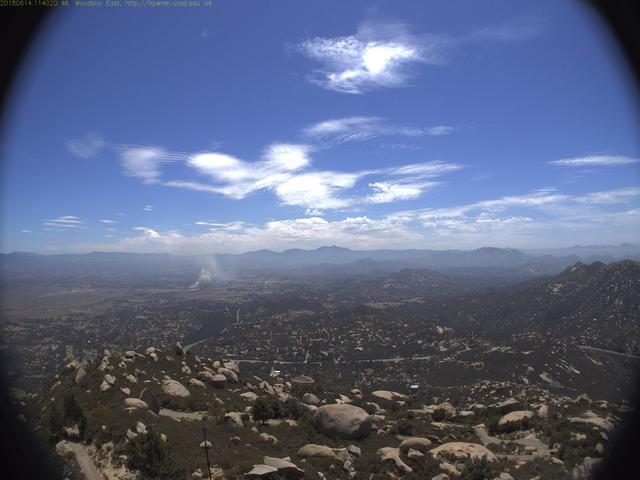smoke: (184, 244, 239, 291)
